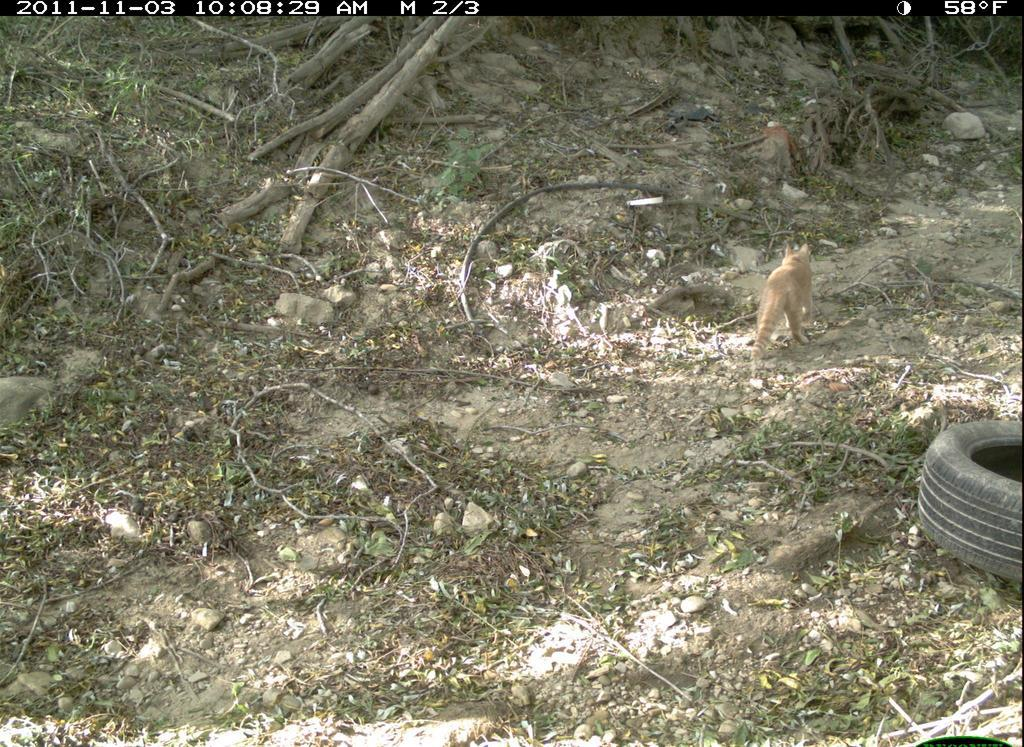cat: (744, 238, 818, 367)
